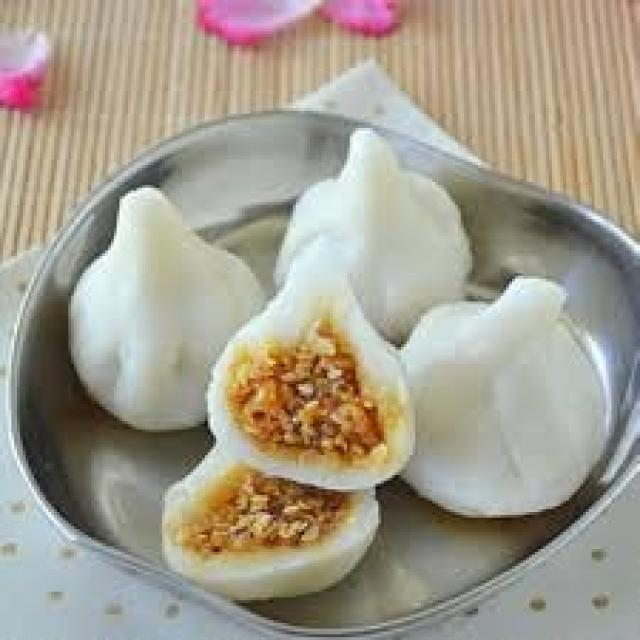poorna kolukattai: (45, 120, 640, 595)
